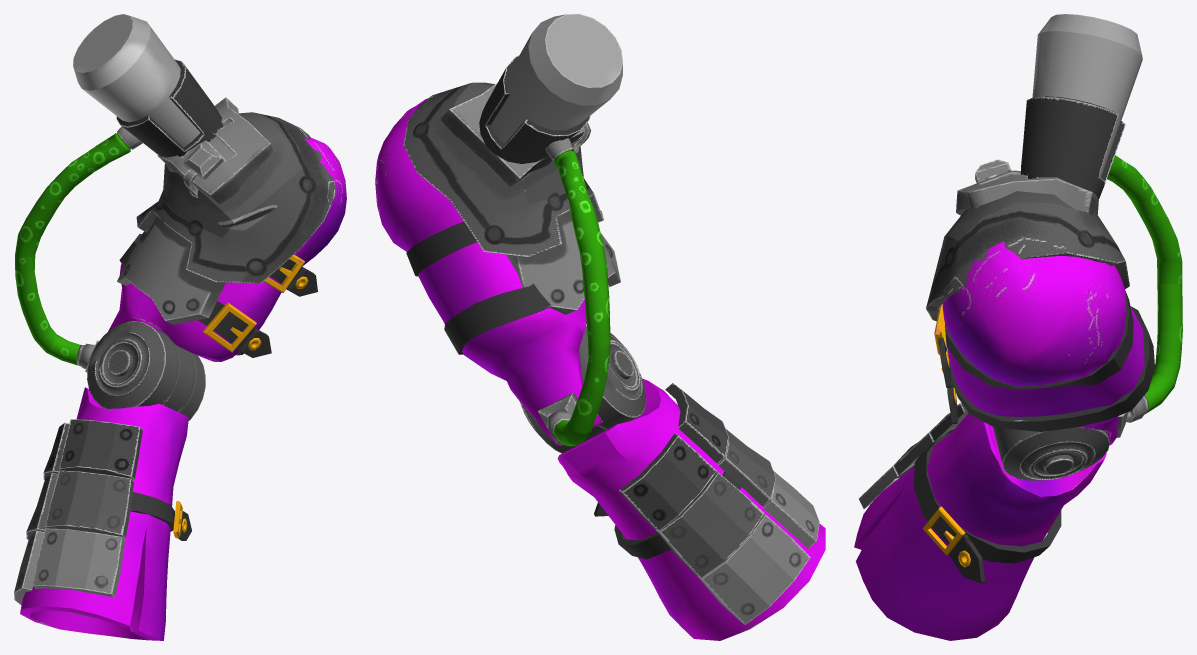
File: armR.fbx
3 views of the same model, side by side, from view 1: azimuth 30°, elevation 25°; view 2: azimuth 150°, elevation 25°; view 3: azimuth 270°, elevation 25° (orthographic). The views are drawn at different scales.
Parts seen in each view (by area): view 1: metalic_0.006, metalic_1.003, matte_1.006, matte_0.008, trasnparent_0.001, submetalic_0.002, transpamatte_0.001; view 2: metalic_0.006, matte_0.008, metalic_1.003, matte_1.006, trasnparent_0.001, transpamatte_0.001, submetalic_0.002; view 3: matte_0.008, matte_1.006, metalic_0.006, trasnparent_0.001, transpamatte_0.001, submetalic_0.002, metalic_1.003.
Part boxes in pixels (left/top/right/bottom): metalic_0.006: left=76, top=59, right=336, bottom=372; metalic_1.003: left=14, top=419, right=182, bottom=604; matte_1.006: left=20, top=387, right=191, bottom=640; matte_0.008: left=108, top=138, right=346, bottom=361; trasnparent_0.001: left=73, top=14, right=200, bottom=147; submetalic_0.002: left=87, top=321, right=205, bottom=421; transpamatte_0.001: left=15, top=133, right=130, bottom=365; metalic_0.006: left=403, top=55, right=620, bottom=443; matte_0.008: left=375, top=98, right=602, bottom=445; metalic_1.003: left=619, top=383, right=819, bottom=624; matte_1.006: left=557, top=378, right=825, bottom=640; trasnparent_0.001: left=491, top=14, right=622, bottom=144; transpamatte_0.001: left=553, top=149, right=610, bottom=446; submetalic_0.002: left=519, top=325, right=646, bottom=453; matte_0.008: left=938, top=241, right=1154, bottom=444; matte_1.006: left=854, top=413, right=1106, bottom=640; metalic_0.006: left=926, top=96, right=1148, bottom=437; trasnparent_0.001: left=1032, top=14, right=1142, bottom=177; transpamatte_0.001: left=1107, top=155, right=1182, bottom=413; submetalic_0.002: left=993, top=427, right=1109, bottom=480; metalic_1.003: left=859, top=402, right=968, bottom=555.
Size of the model in its own units: 1156 by 818 by 1803.
Materials: 1 (1 with a texture image).
